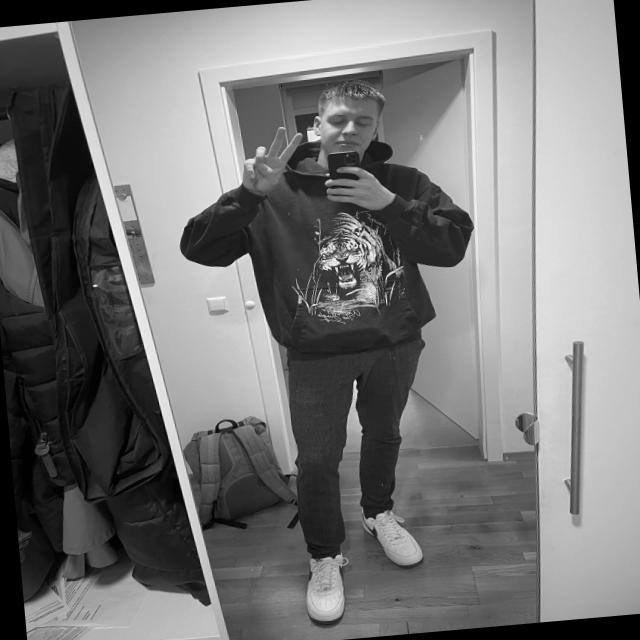JeremiasDiaz: (305, 77, 388, 156)
